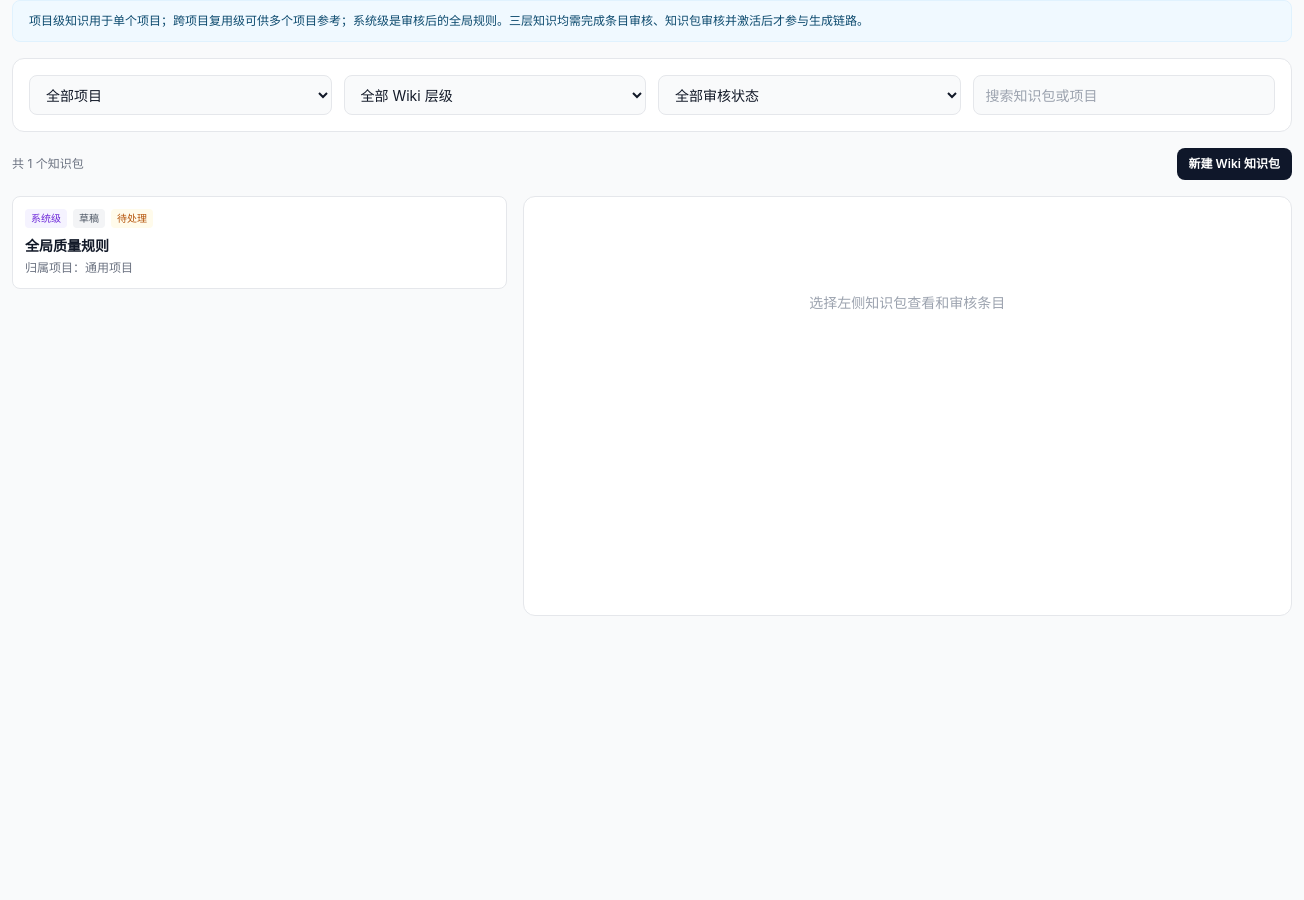
Test: WikiAssetManager › loads entries and exposes review controls
Click the text "全局质量规则" at (67, 246), box x1=25 y1=237 x2=109 y2=254
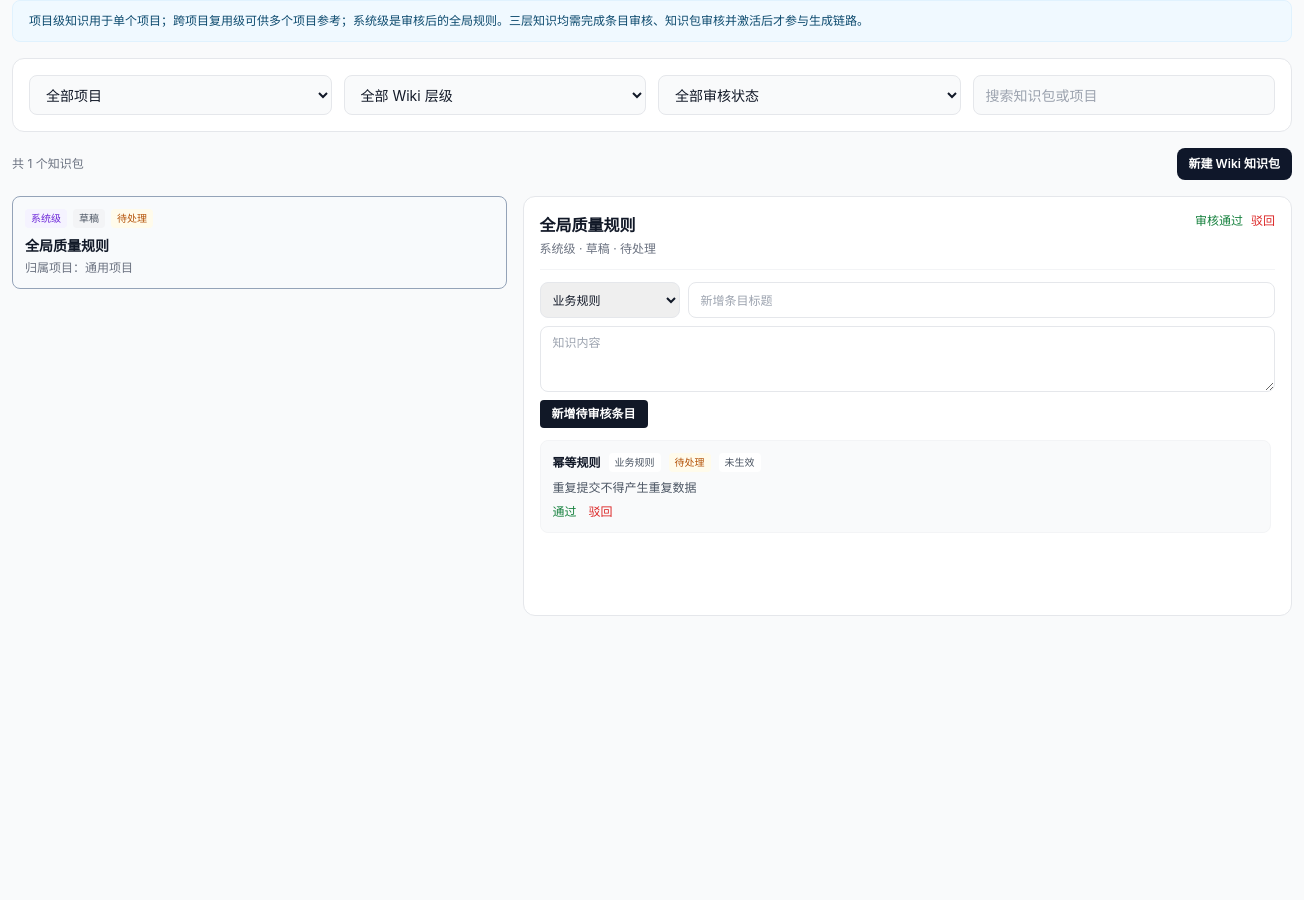
Check: the text "幂等规则" is shown, box x1=553 y1=454 x2=601 y2=470
